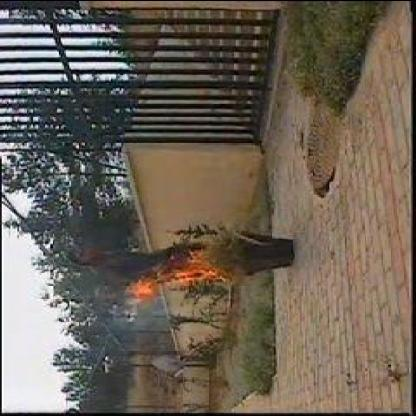foggia-v2-map80-epoch100 - v1 4323: (128, 242, 214, 296)
